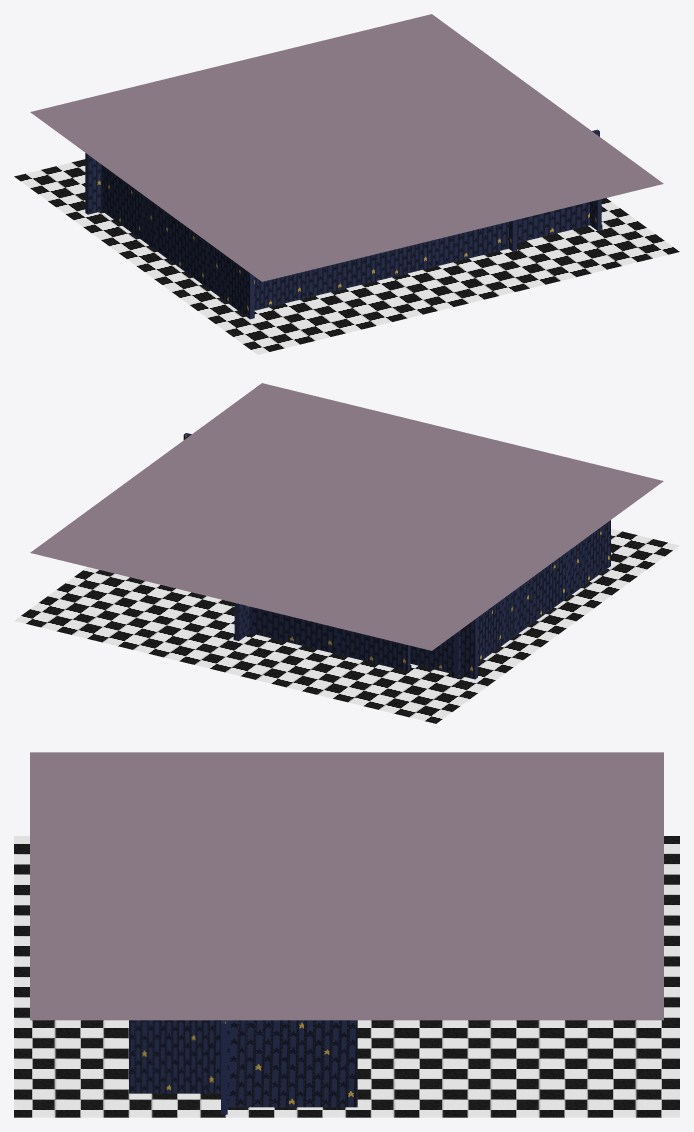
The model's file is Museo Text Fixed 3.glb.
The picture shows the model from 3 angles, top to bottom: view 1: azimuth 30°, elevation 25°; view 2: azimuth 150°, elevation 25°; view 3: azimuth 270°, elevation 25°; orthographic projection. The views are drawn at different scales.
Visible parts, largest first — view 1: Roof, Floor, Walls; view 2: Roof, Floor, Walls; view 3: Roof, Floor, Walls.
Part boxes in pixels (x1,y1,x2,y2): Roof: [30, 14, 663, 281]; Floor: [14, 159, 679, 354]; Walls: [85, 129, 602, 319]; Roof: [30, 383, 663, 650]; Floor: [14, 528, 679, 723]; Walls: [183, 433, 610, 679]; Roof: [30, 752, 663, 1020]; Floor: [14, 836, 679, 1117]; Walls: [129, 1020, 357, 1114].
Bounding box in the file's own units: 78.87 × 11.92 × 78.87.
Materials: 6 (3 with a texture image).
